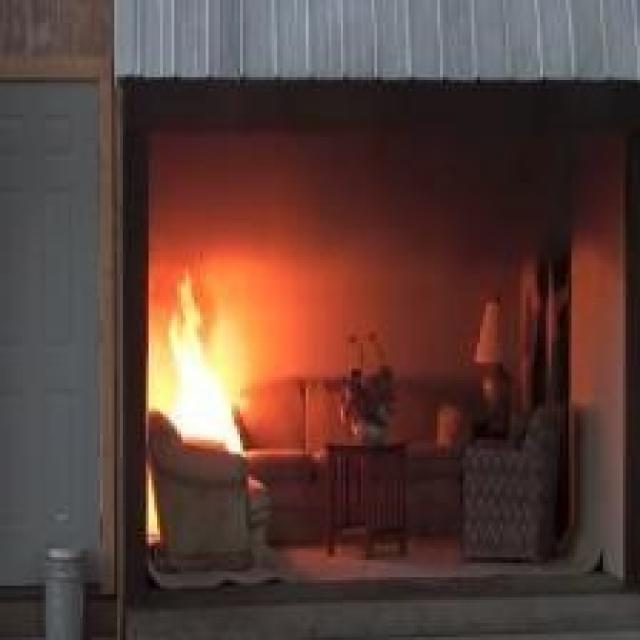fire: (142, 267, 278, 450)
